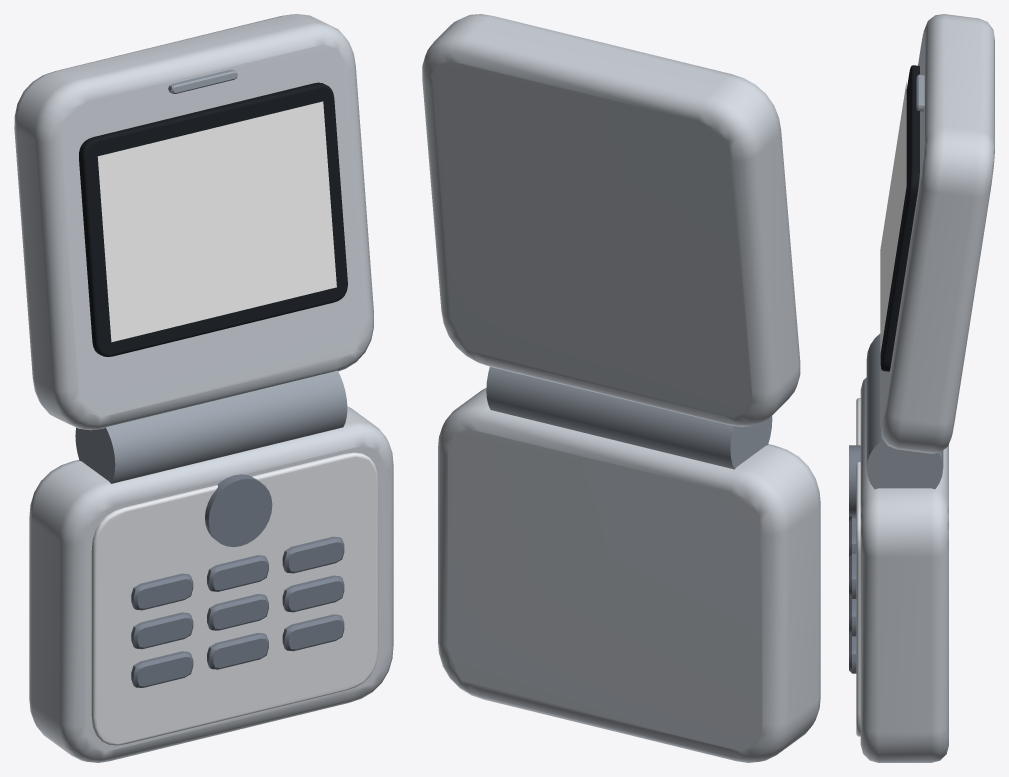
File: flip.glb
3 renders of one model, left to right at view 1: azimuth 30°, elevation 25°; view 2: azimuth 150°, elevation 25°; view 3: azimuth 270°, elevation 25°, orthographic. The views are drawn at different scales.
Visible parts, largest first — view 1: Silver, Face, Screen, Key, Hinge, Bezel; view 2: Silver, Hinge; view 3: Silver, Hinge, Bezel, Screen, Key, Face.
Boxes of the visible parts, bbox=[...] form: Silver: bbox=[14, 14, 393, 762]; Face: bbox=[91, 452, 378, 745]; Screen: bbox=[97, 101, 336, 342]; Key: bbox=[131, 474, 344, 687]; Hinge: bbox=[75, 69, 347, 483]; Bezel: bbox=[79, 82, 347, 356]; Silver: bbox=[422, 14, 820, 762]; Hinge: bbox=[486, 367, 772, 469]; Silver: bbox=[860, 14, 994, 762]; Hinge: bbox=[866, 74, 943, 489]; Bezel: bbox=[880, 65, 919, 371]; Screen: bbox=[880, 82, 906, 354]; Key: bbox=[849, 445, 860, 673]; Face: bbox=[856, 398, 860, 736].
Size of the model in its own units: 0.25 by 0.4707 by 0.0992.
